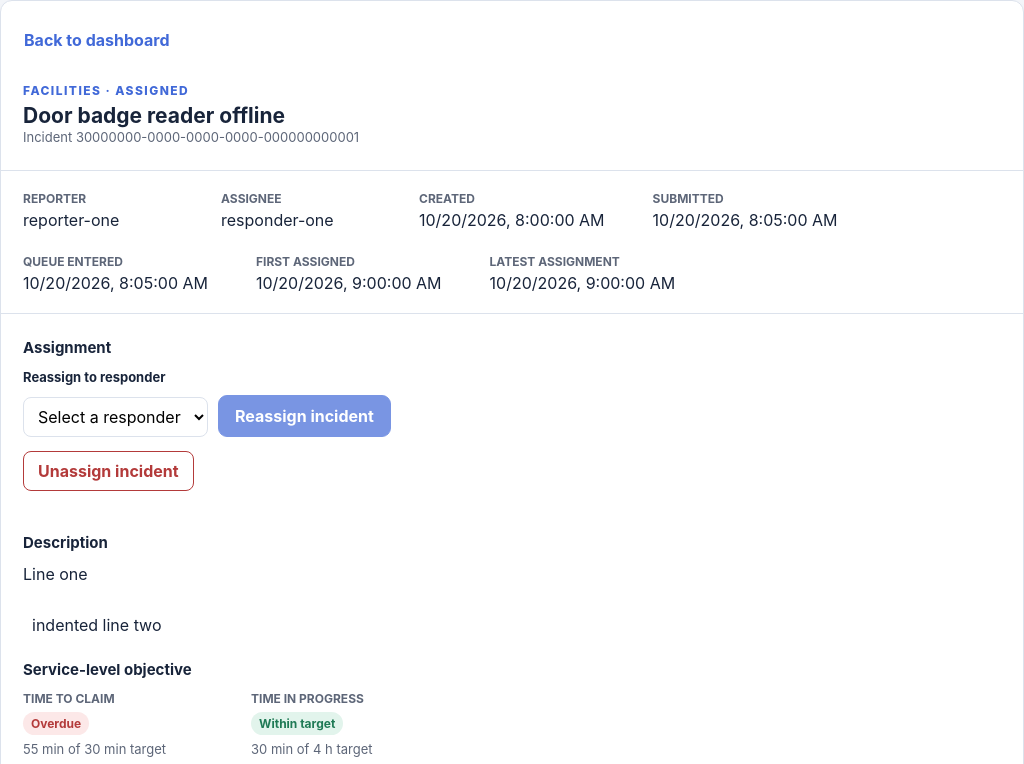
Test case: AdministratorIncidentDetail › reports a stale mutation as a conflict and reloads the latest detail
Expected: the heading "Door badge reader offline" is shown, [23,103,285,128]
Click the button "Unassign incident".
click(108, 470)  # box [23,450,194,490]
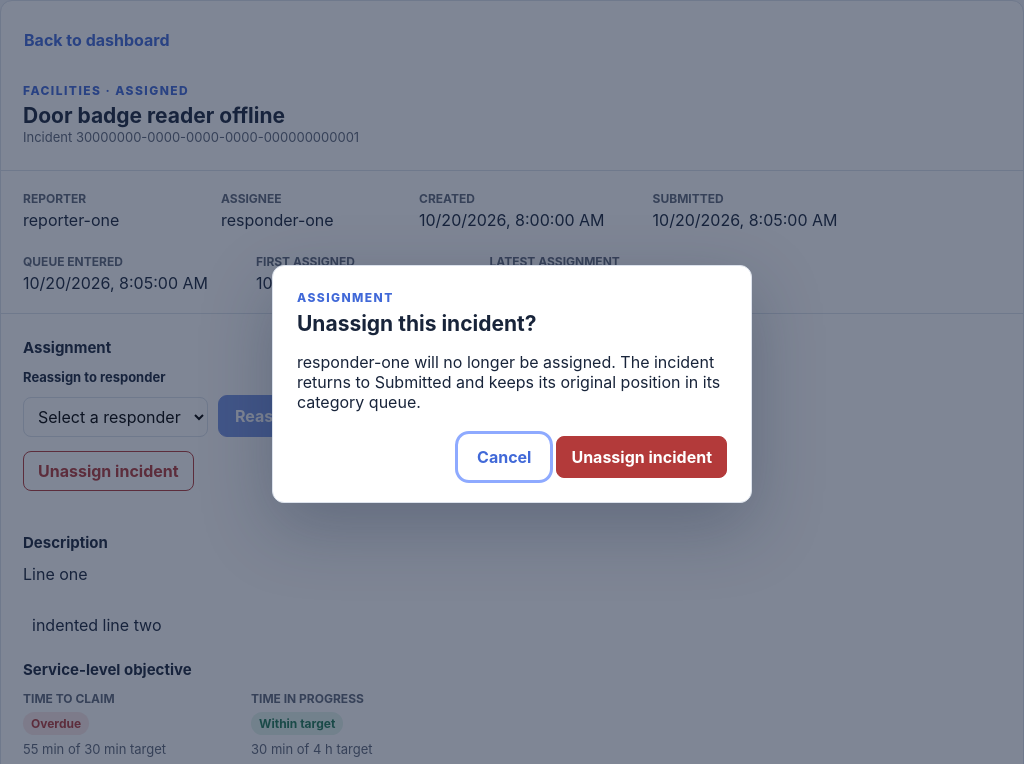
Click the button "Unassign incident" below "Unassign this incident?".
click(642, 457)  # box [556,436,727,478]
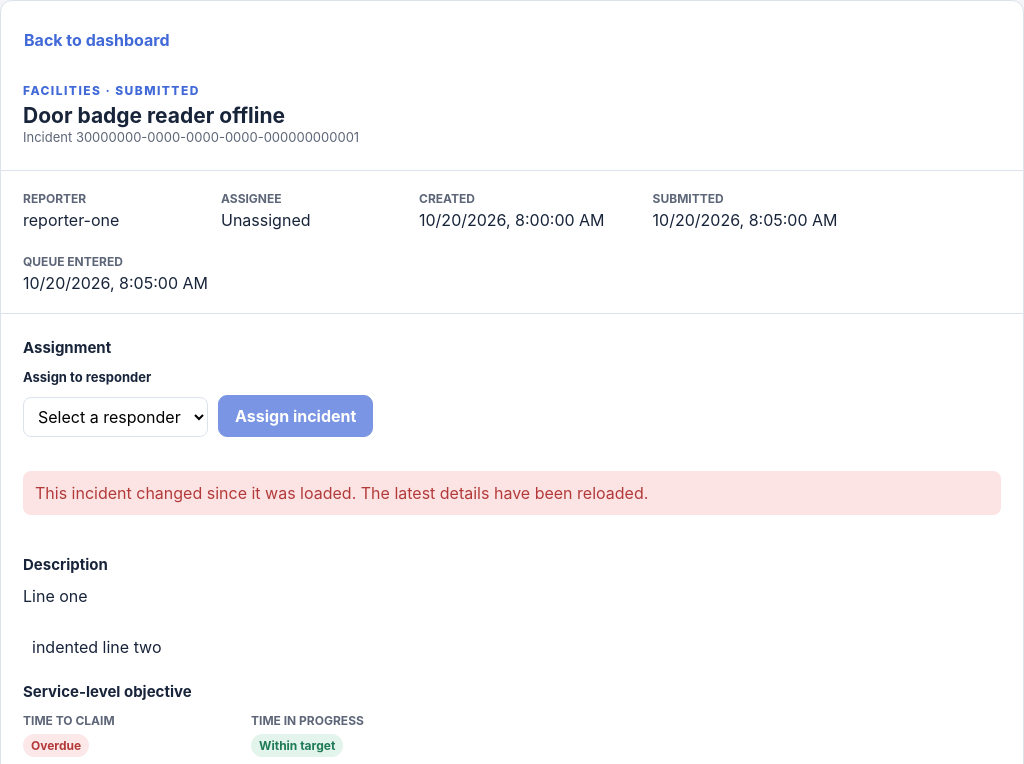
Expected: the message shows "changed since it was loaded", [35,482,648,502]
